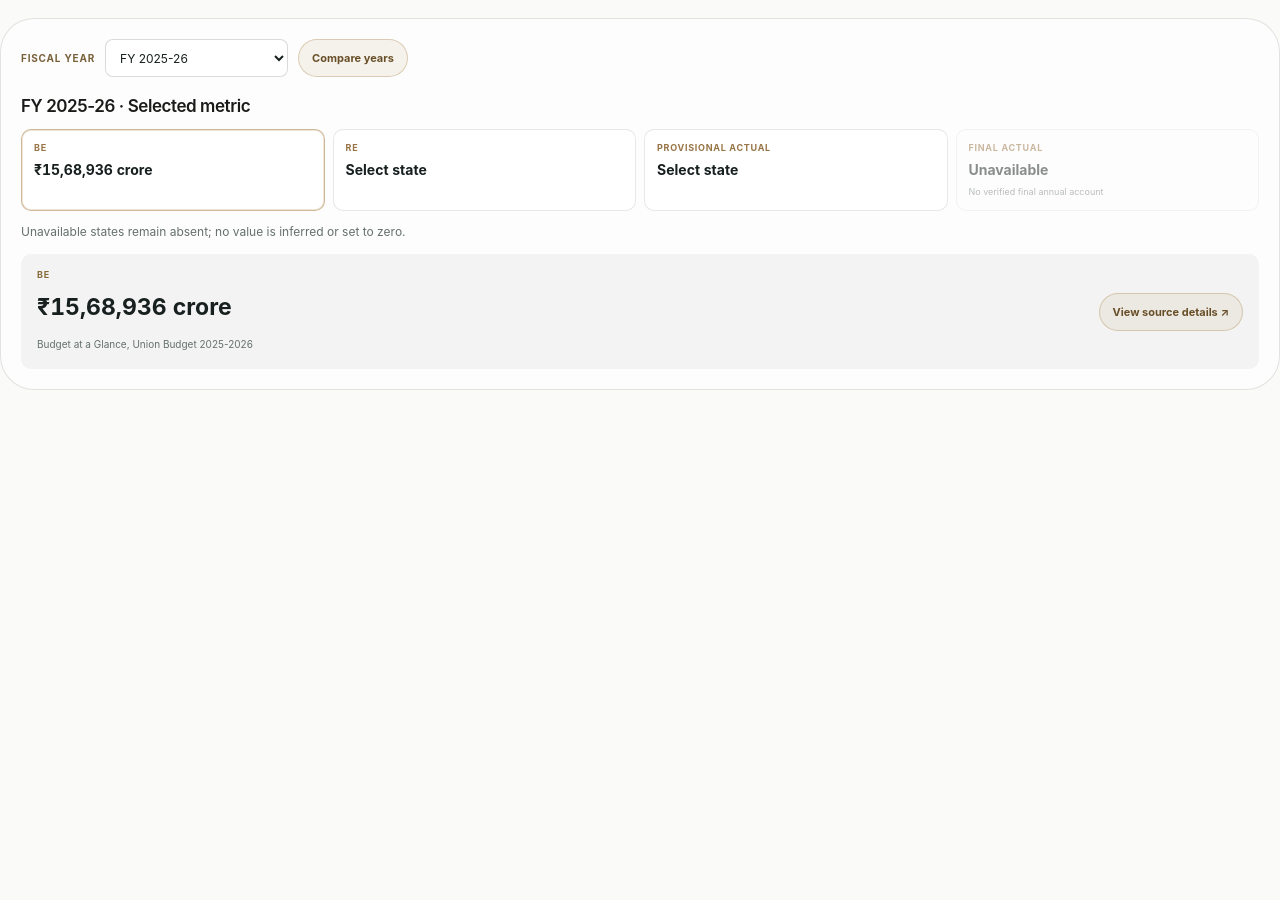
Test: Historical fiscal comparison panel › compares exactly two historical years and suppresses changes when states differ
The width and height of the screenshot is (1280, 900).
Expected: the heading "FY 2025-26 · Selected metric" is shown, [21, 96, 250, 116]
Click the button "Compare years" at (353, 58), box [298, 39, 408, 77]
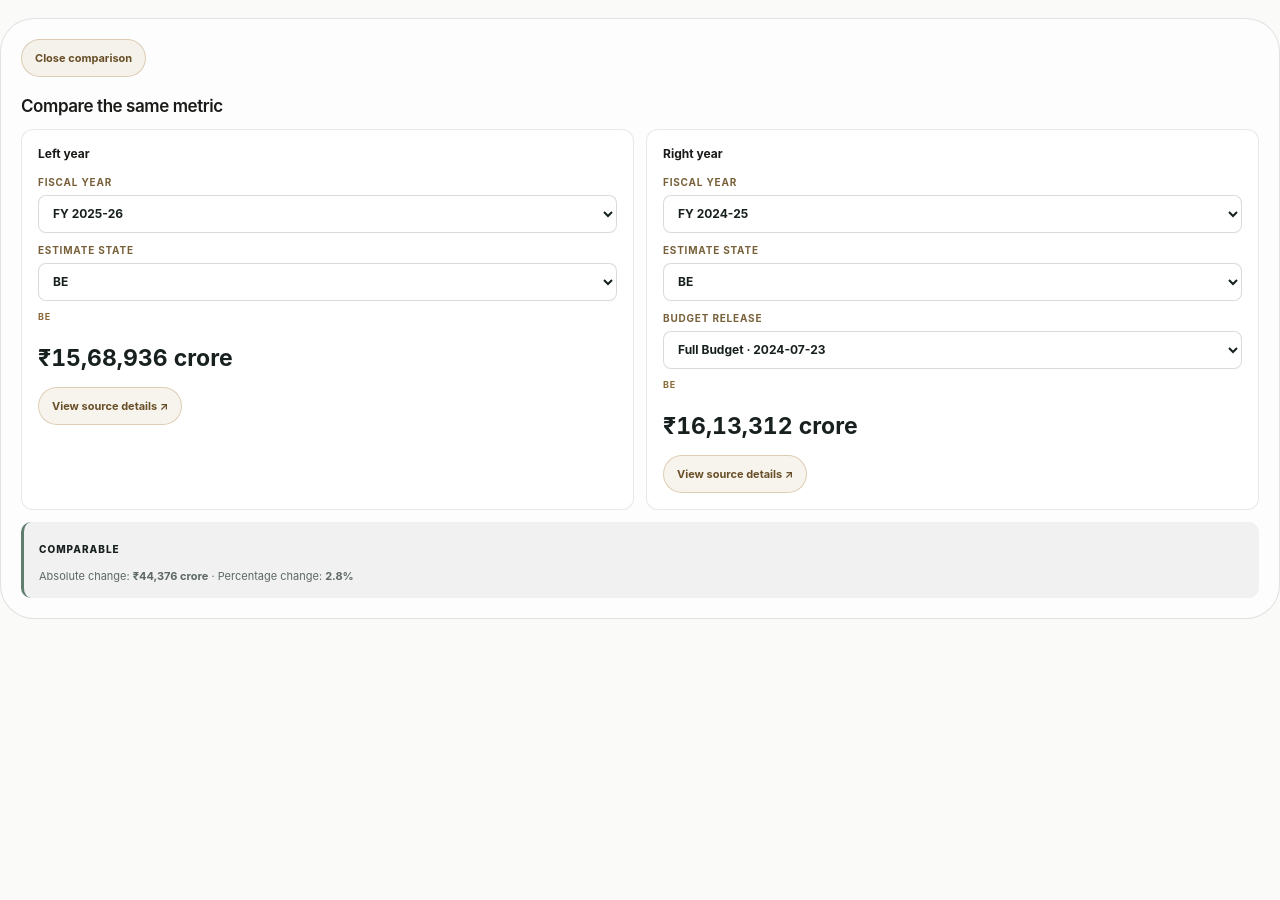
Result: the dropdown labelled "Fiscal year" below "Right year" shows "FY 2024-25" at [663, 195, 1242, 233]
Result: the text "Comparable" is shown at [39, 543, 120, 555]
Result: the text "Absolute change: ₹44,376 crore · Percentage change: 2.8%" is shown at [39, 570, 354, 584]
Select "RE" in the dropdown labelled "Estimate state" below "Right year" at (952, 282), box [663, 263, 1242, 301]
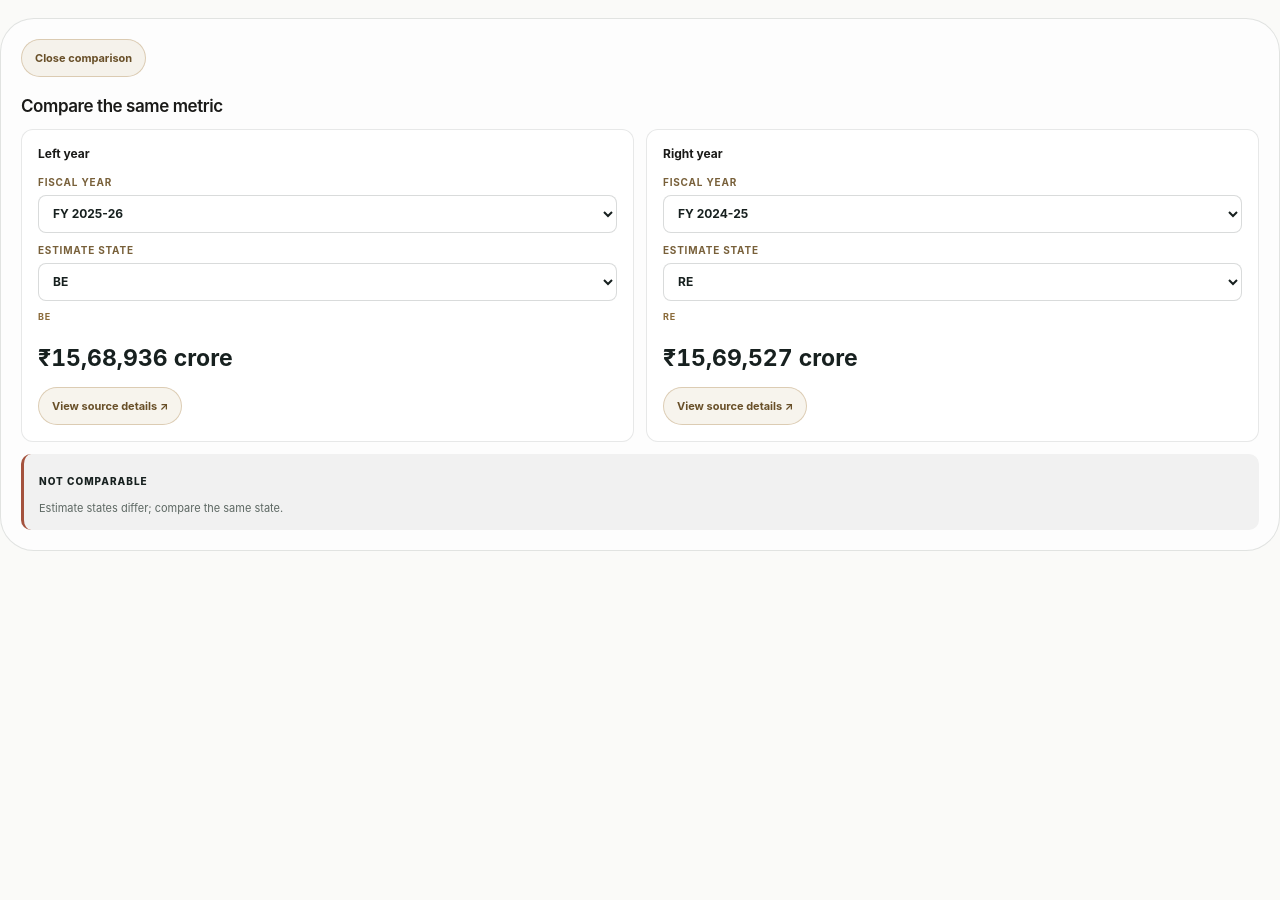
Result: the text "Not comparable" is shown at [39, 475, 148, 487]
Result: the text "Absolute change" is gone
Result: the text "Percentage change" is gone
